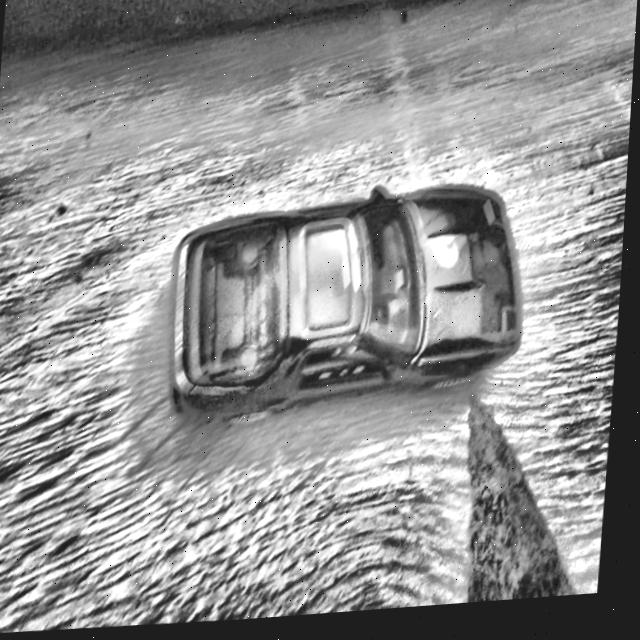car: (167, 181, 537, 434)
